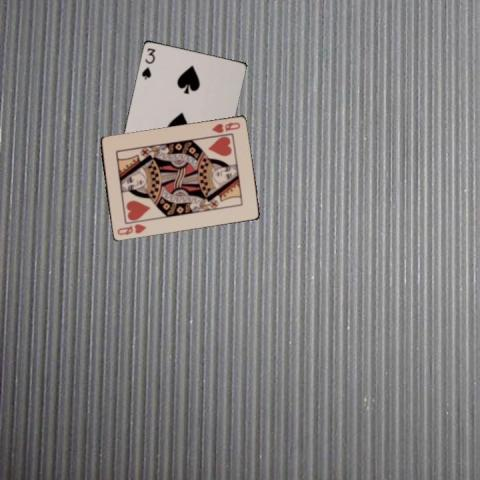3s: (138, 45, 156, 80)
Qh: (114, 221, 147, 237), (209, 119, 241, 135)
